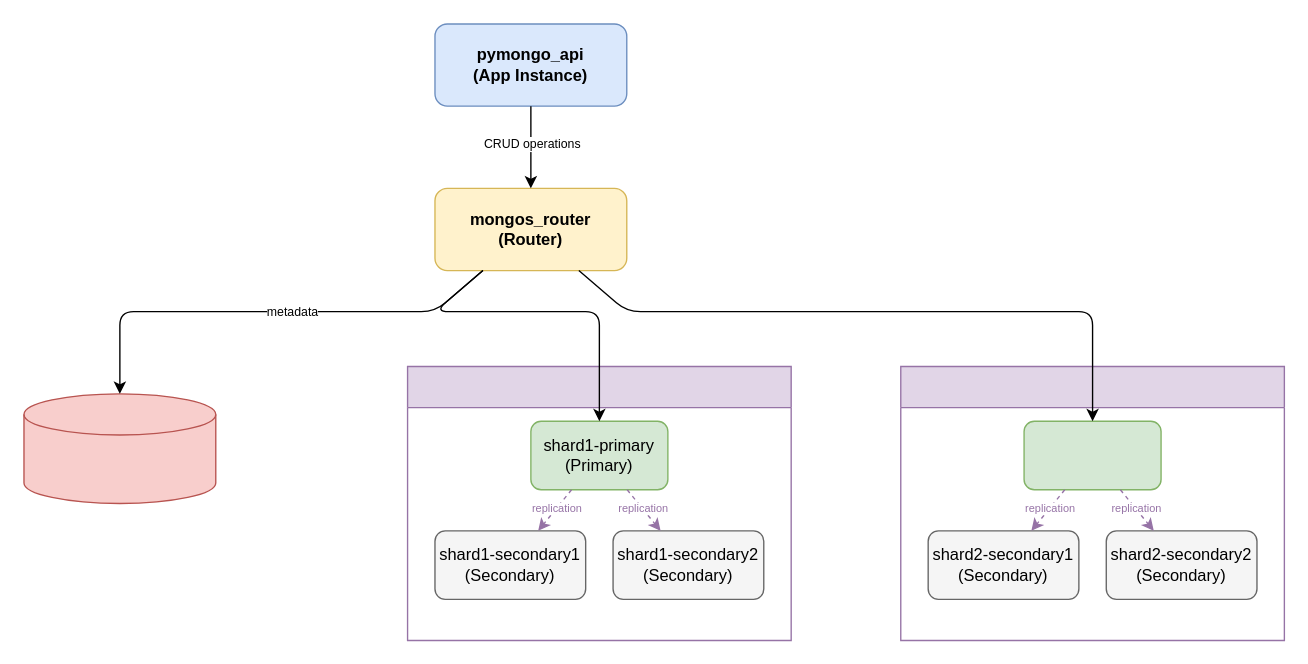
This 1308x664 diagram has some shape labels left out. Each missing label, with the box of its shape:
configSrv (Config Server RS): (23, 393, 216, 503)
shard1 Replica Set: (406, 365, 791, 640)
shard2 Replica Set: (899, 365, 1284, 640)
shard2-primary (Primary): (1023, 420, 1161, 490)
